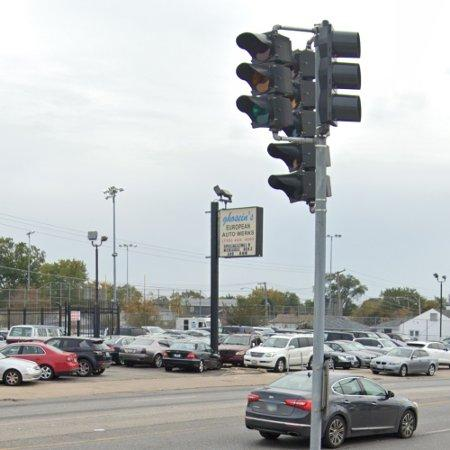traffic lights: (318, 20, 362, 125)
